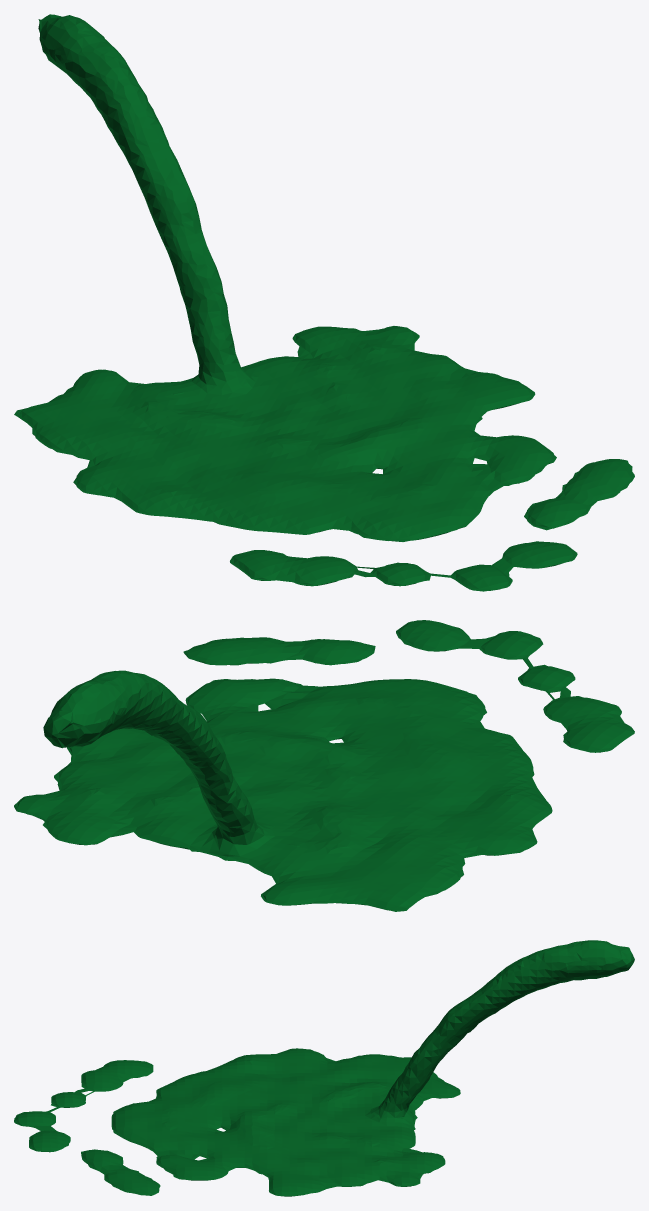
The model's file is fluid_9.fbx.
3 renders of one model, top to bottom at view 1: azimuth 30°, elevation 25°; view 2: azimuth 150°, elevation 25°; view 3: azimuth 270°, elevation 25°, orthographic. The views are drawn at different scales.
Visible parts, largest first — view 1: Cube; view 2: Cube; view 3: Cube.
Part boxes in pixels (x1,y1,x2,y2): Cube: (14, 14, 634, 591); Cube: (14, 620, 634, 911); Cube: (14, 940, 634, 1196).
Bounding box in the file's own units: 306 × 177 × 544.
